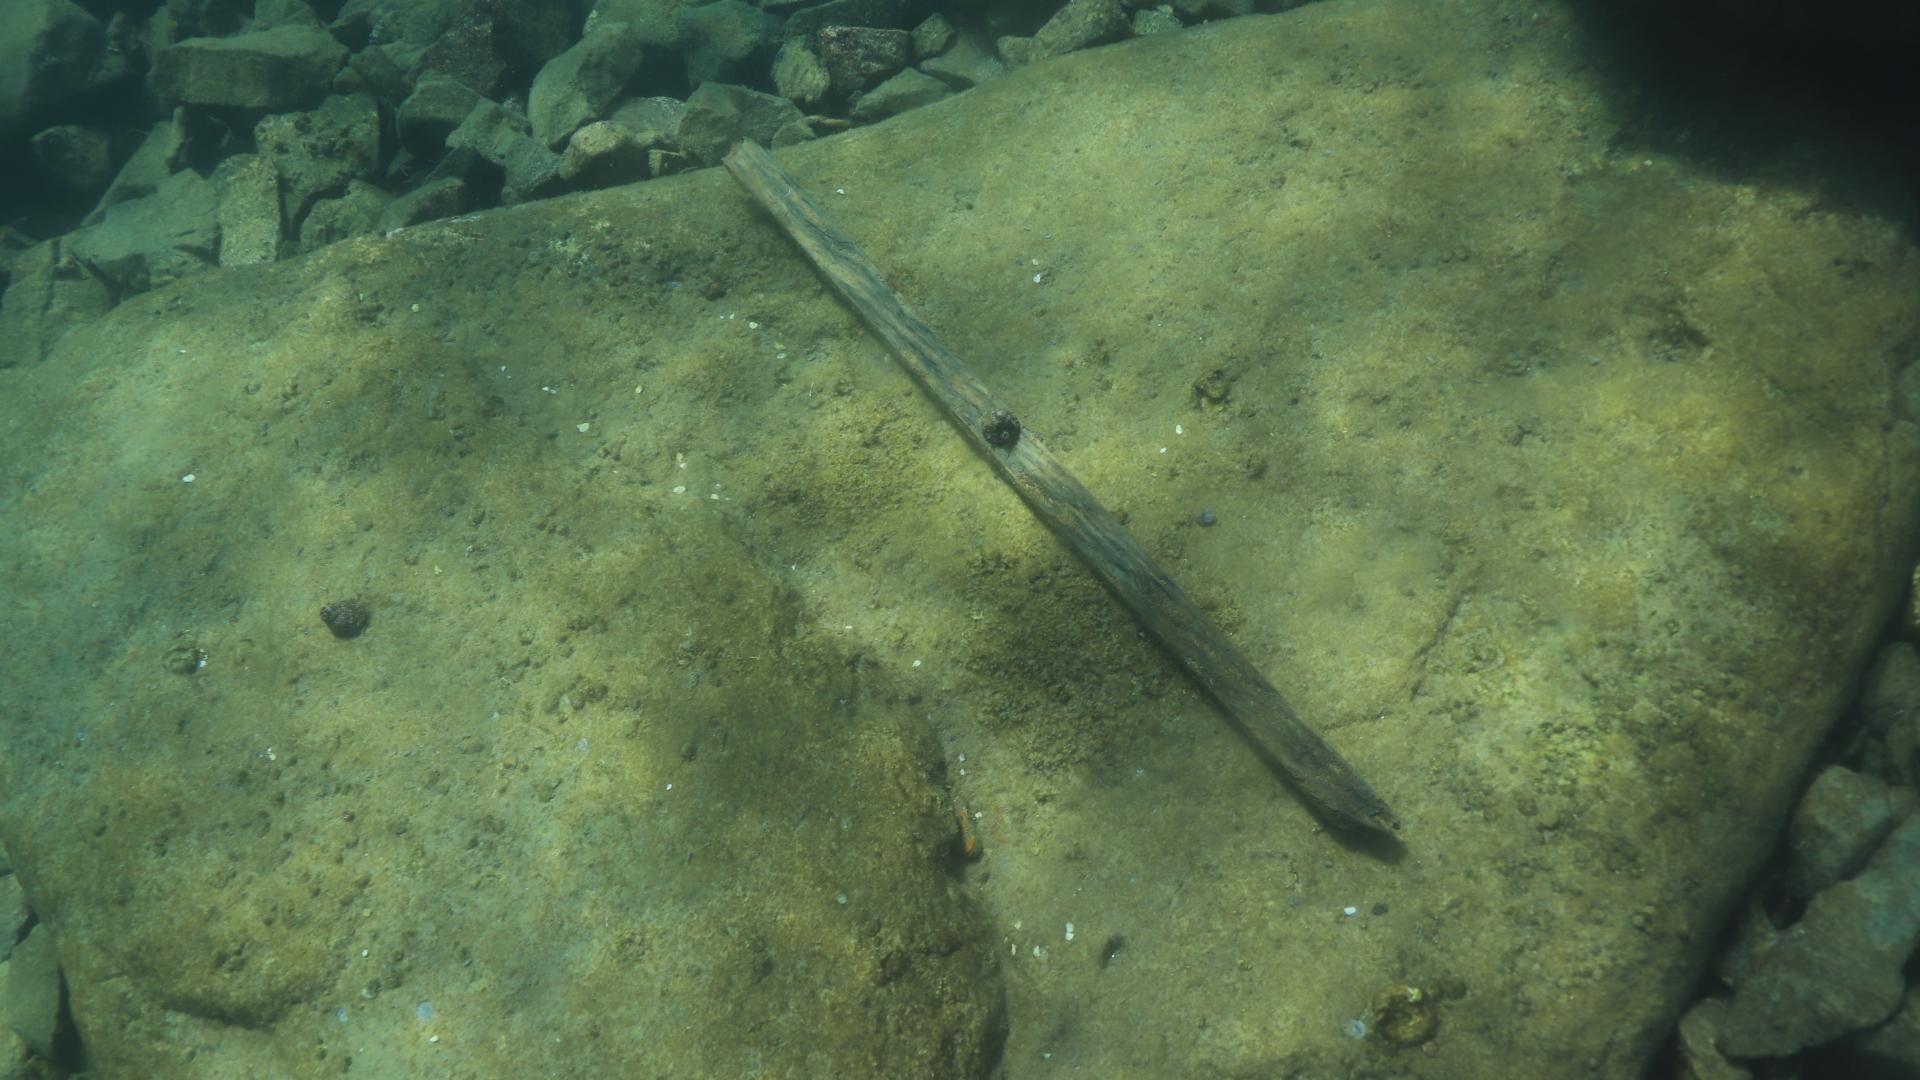wood: (719, 132, 1406, 844)
